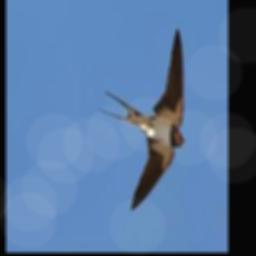Swallow: (100, 28, 186, 208)
